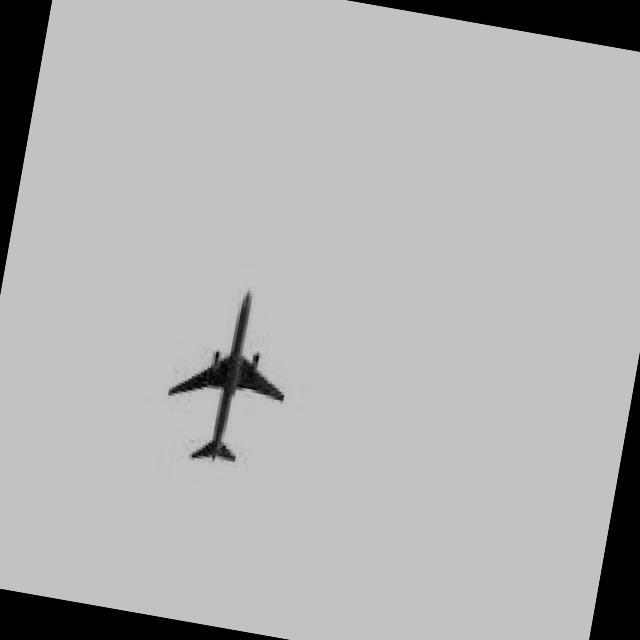aeroplane: (152, 276, 304, 475)
